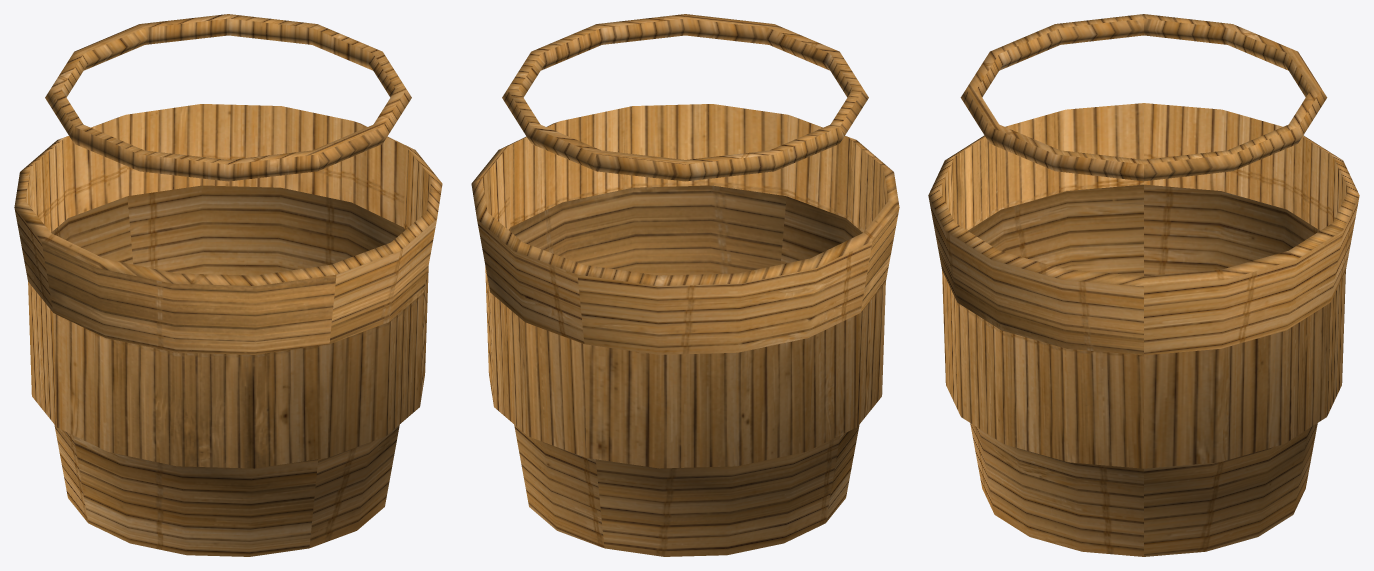
File: basket.fbx
The picture shows the model from 3 angles, left to right: view 1: azimuth 30°, elevation 25°; view 2: azimuth 150°, elevation 25°; view 3: azimuth 270°, elevation 25°; orthographic projection.
Parts seen in each view (by area): view 1: basket; view 2: basket; view 3: basket.
Part boxes in pixels (x1,y1,x2,y2): basket: [14, 14, 442, 556]; basket: [471, 14, 899, 556]; basket: [928, 14, 1359, 556].
Size of the model in its own units: 0.2 by 0.2043 by 0.2.
Materials: 1 (1 with a texture image).
